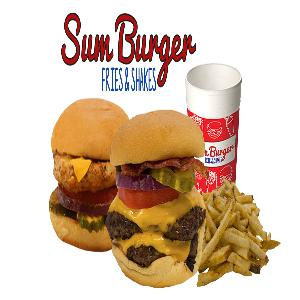cheeseburger: (111, 99, 204, 292), (44, 93, 131, 261)
fries: (207, 183, 280, 287)
